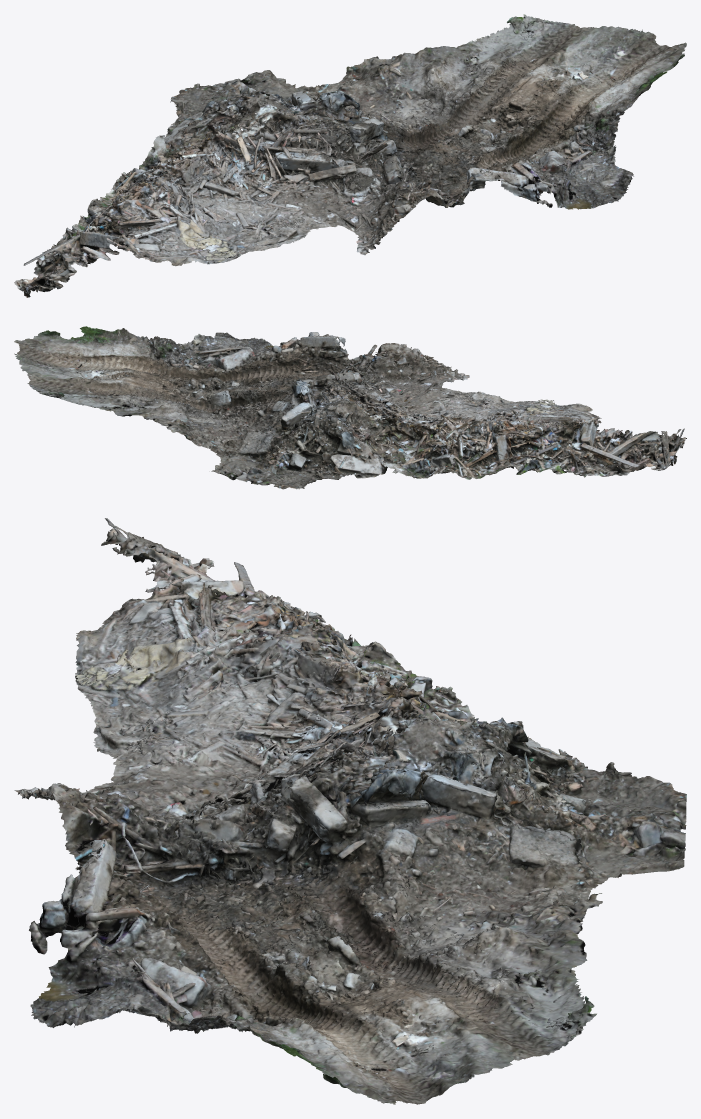
The model's file is debree_scan.fbx.
The picture shows the model from 3 angles, top to bottom: view 1: azimuth 30°, elevation 25°; view 2: azimuth 150°, elevation 25°; view 3: azimuth 270°, elevation 25°; orthographic projection. The views are drawn at different scales.
Visible parts, largest first — view 1: debree_scan; view 2: debree_scan; view 3: debree_scan.
Part boxes in pixels (box(x1,y1,x2,y2)): debree_scan: box(14, 14, 686, 297); debree_scan: box(14, 326, 686, 489); debree_scan: box(14, 518, 686, 1104).
Bounding box in the file's own units: 17150 × 1673 × 8401.
